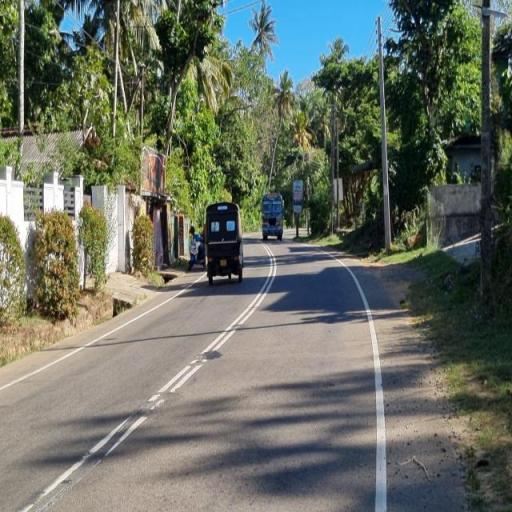double_white_line: (146, 244, 276, 406)
